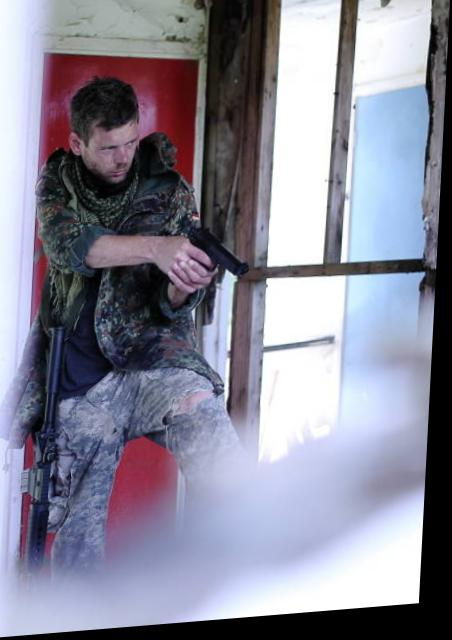other: (34, 53, 259, 576)
